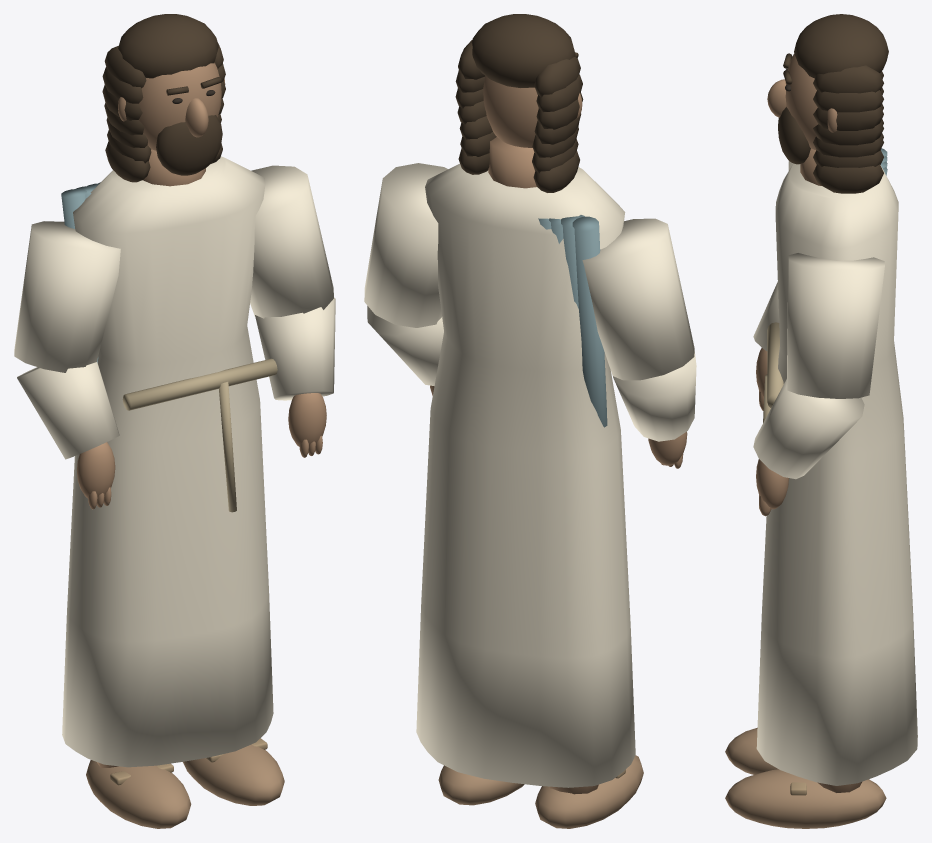
The model's file is SM_Jesus.fbx.
3 renders of one model, left to right at view 1: azimuth 30°, elevation 25°; view 2: azimuth 150°, elevation 25°; view 3: azimuth 270°, elevation 25°, orthographic. The views are drawn at different scales.
Visible parts, largest first — view 1: SM_Jesus; view 2: SM_Jesus; view 3: SM_Jesus.
Part boxes in pixels (x1=…): SM_Jesus: x1=14, y1=14, x2=335, y2=828; SM_Jesus: x1=364, y1=14, x2=696, y2=828; SM_Jesus: x1=725, y1=14, x2=917, y2=828.
Bounding box in the file's own units: 76.21 × 40.59 × 181.
